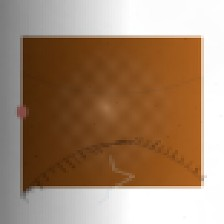foreign_body_visible: (82, 86, 128, 122)
